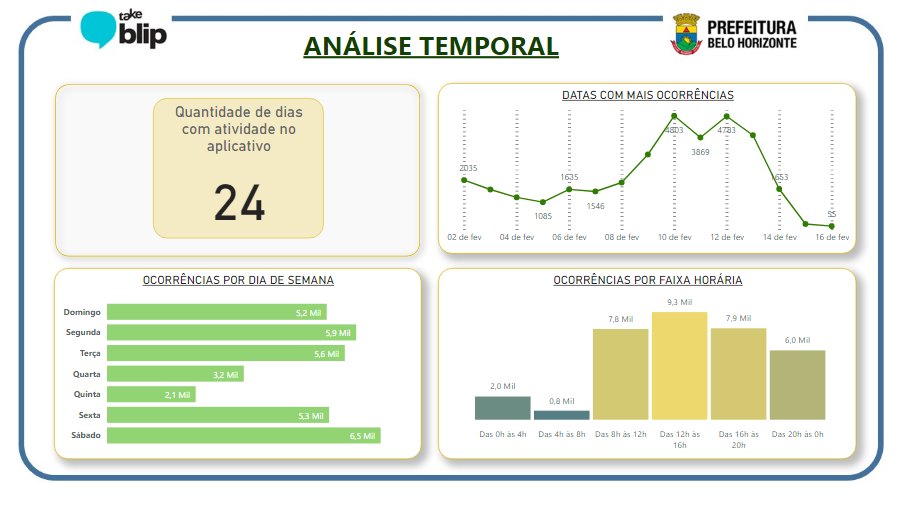

The page's visual inventory and layout, read from the dashboard file:
{"tool":"powerbi","page":{"name":"Página 1","canvas":[1280,720],"ordinal":1},"visuals":[{"type":"lineClusteredColumnComboChart","title":"OCORRÊNCIAS POR FAIXA HORÁRIA","fields":{"Category":["DadosBrutosMessages.Faixa de Horário"],"Y":["CountNonNull(DadosBrutosMessages.Message)"]},"box":[632.6,380.2,593.3,271.1],"z":0},{"type":"clusteredBarChart","title":"OCORRÊNCIAS POR DIA DE SEMANA","fields":{"Category":["dCalendario.Dia da Semana (Português-BR)","DadosBrutosEventTracks.StorageDate.Variation.Date Hierarchy.Year","DadosBrutosEventTracks.StorageDate.Variation.Date Hierarchy.Quarter","DadosBrutosEventTracks.StorageDate.Variation.Date Hierarchy.Month","DadosBrutosEventTracks.StorageDate.Variation.Date Hierarchy.Day"],"Y":["CountNonNull(DadosBrutosMessages.Message)"]},"box":[88.4,380.2,520.6,271.1],"z":1000},{"type":"lineChart","title":"DATAS COM MAIS OCORRÊNCIAS","fields":{"Y":["CountNonNull(DadosBrutosMessages.Message)"],"Category":["dCalendario.Date"]},"box":[632.6,117.9,593.3,241.7],"z":2000},{"type":"actionButton","box":[0,0,100,40],"z":3000},{"type":"textbox","box":[341.9,32.4,561.9,63.9],"z":4000},{"type":"shape","box":[73.7,104.1,549.1,276],"z":5000},{"type":"card","title":"Quantidade de dias com atividade no aplicativo","fields":{"Values":["Count(DadosBrutosMessages.Dia)"]},"box":[227.8,139.3,241.6,199.2],"z":6000}]}

Visuals, with their boxes in screenshot pixels (x1, y1, x2, y2), scaled from the page's 1280x720 canvas onto the 902x506 screenshot:
"OCORRÊNCIAS POR FAIXA HORÁRIA" lineClusteredColumnComboChart: detection(446, 267, 864, 458)
"OCORRÊNCIAS POR DIA DE SEMANA" clusteredBarChart: detection(62, 267, 429, 458)
"DATAS COM MAIS OCORRÊNCIAS" lineChart: detection(446, 83, 864, 253)
actionButton: detection(0, 0, 70, 28)
textbox: detection(241, 23, 637, 68)
shape: detection(52, 73, 439, 267)
"Quantidade de dias com atividade no aplicativo" card: detection(161, 98, 331, 238)
